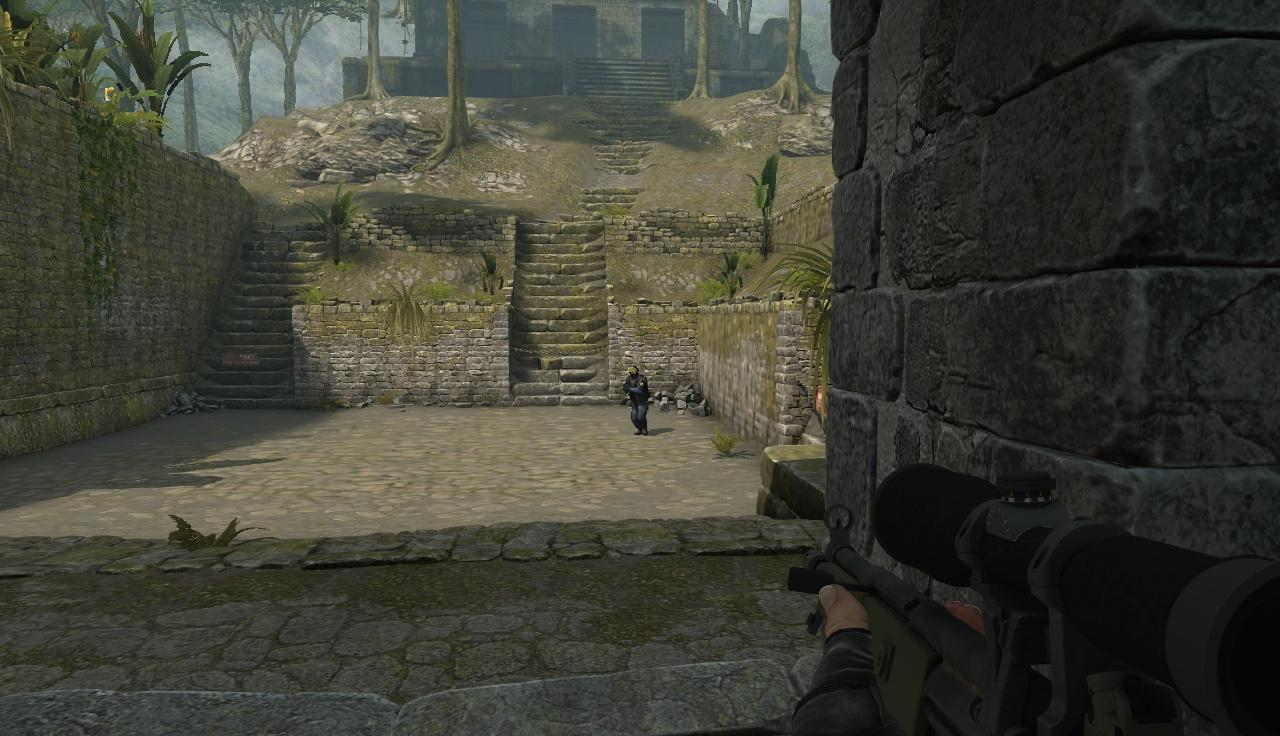ct: (626, 368, 650, 436)
cthead: (630, 368, 641, 380)
rifle: (824, 458, 1280, 732)
